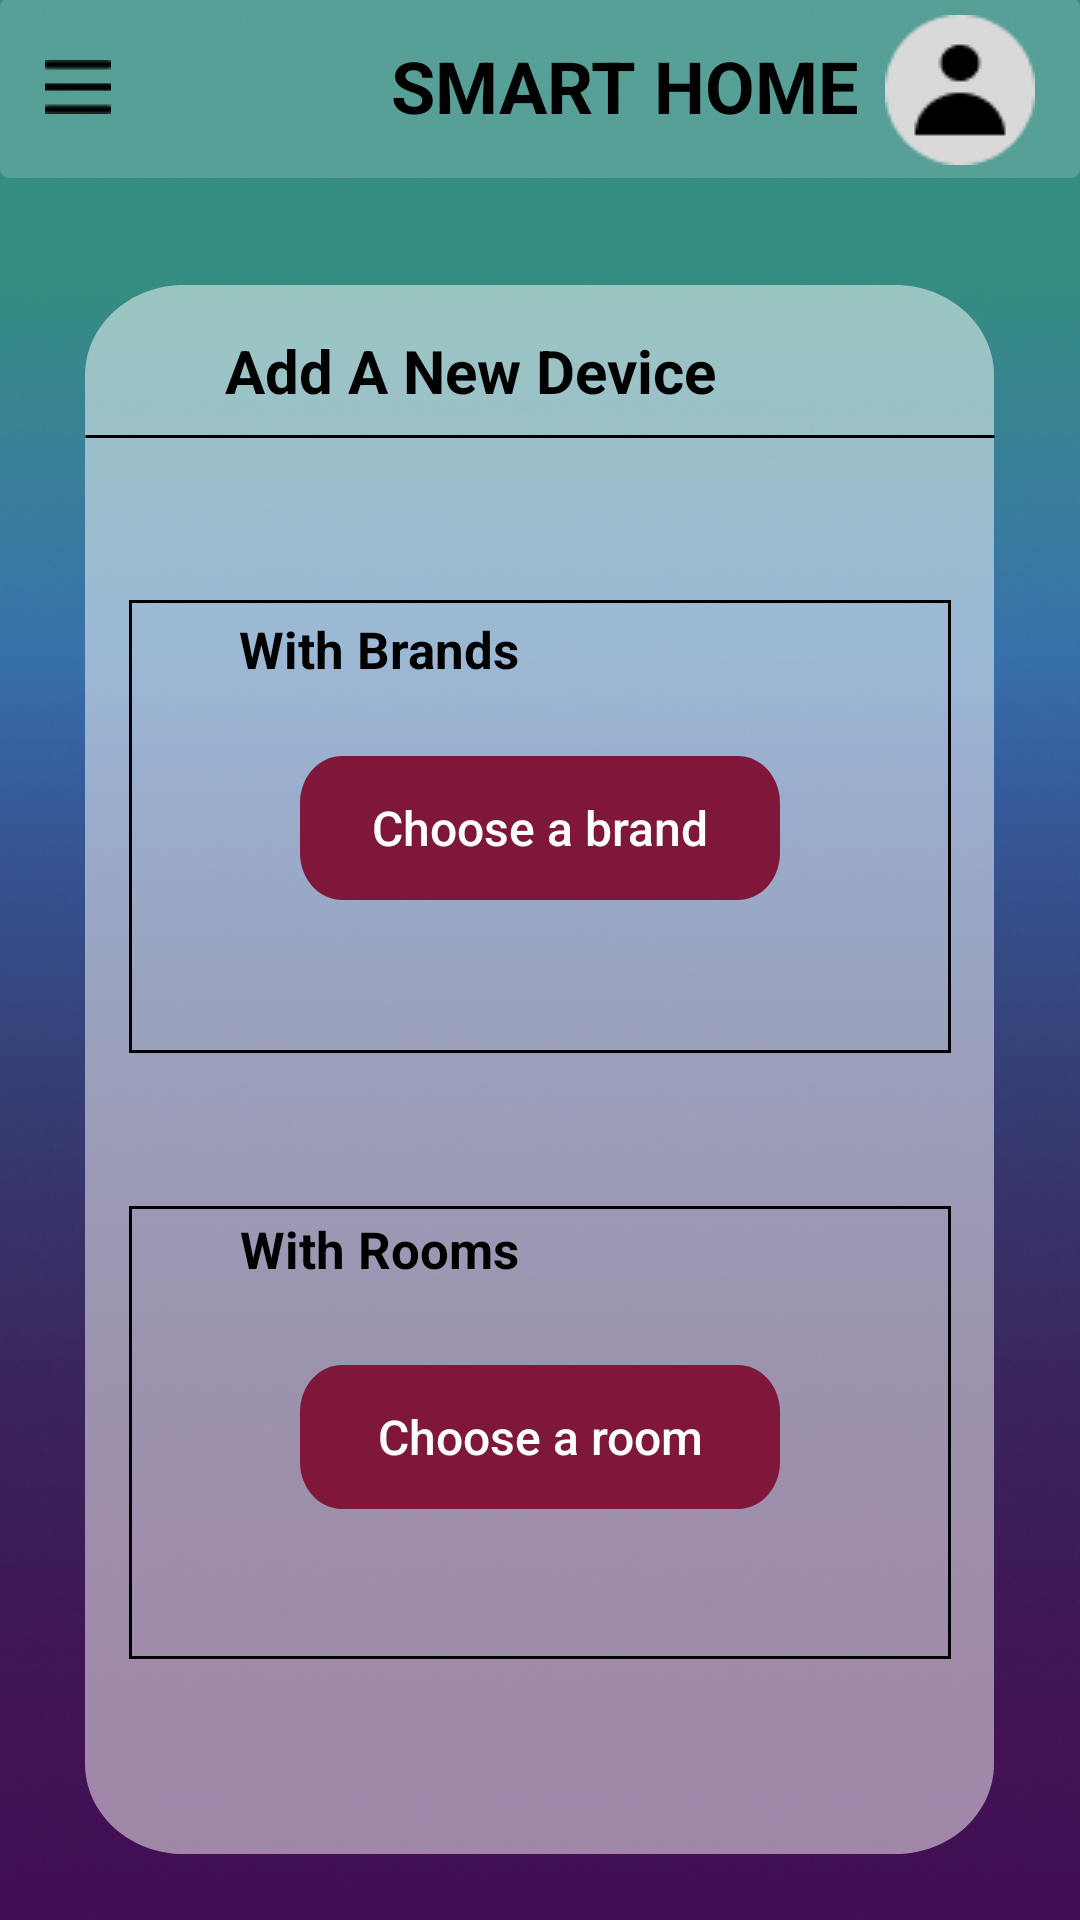

Where to tap for icons on this 1080px x 1920px app screen, as (x=x, y=y):
more option: (x=78, y=87)
user: (x=960, y=90)
